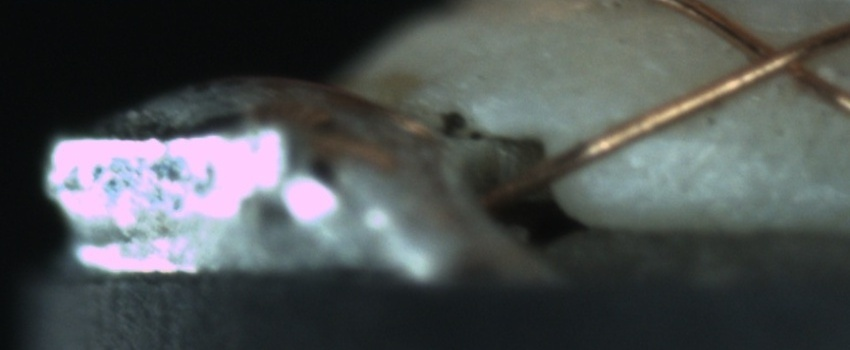CL: (724, 21, 829, 93)
